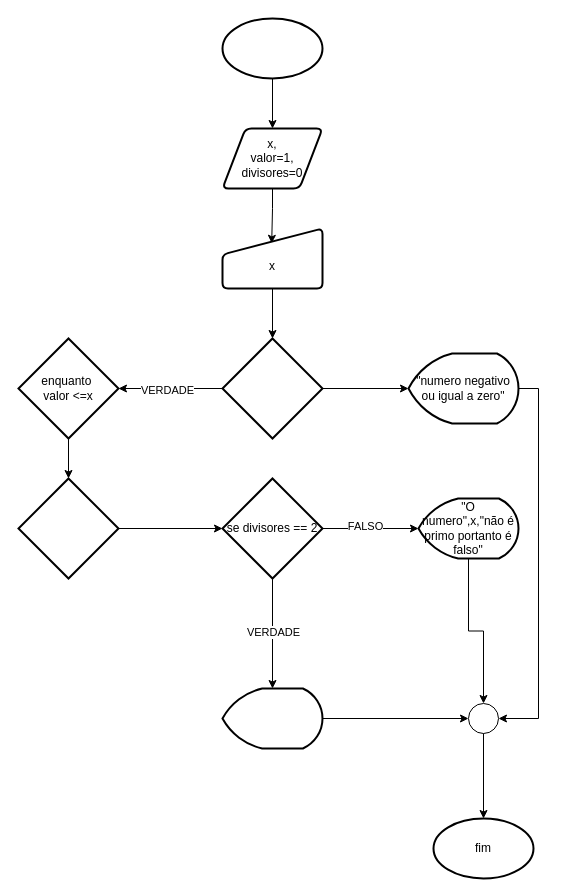
The diagram is 564 pixels wide and 896 high, and some of its shapes have lost their labels. Each missing label, with the box of its shape:
"o numero", x,"é primo portanto é verdadeiro": (221, 687, 323, 749)
inicio: (221, 17, 323, 79)
se x % valor = 0 divisores ++: (17, 477, 119, 579)
x>0: (221, 337, 323, 439)
